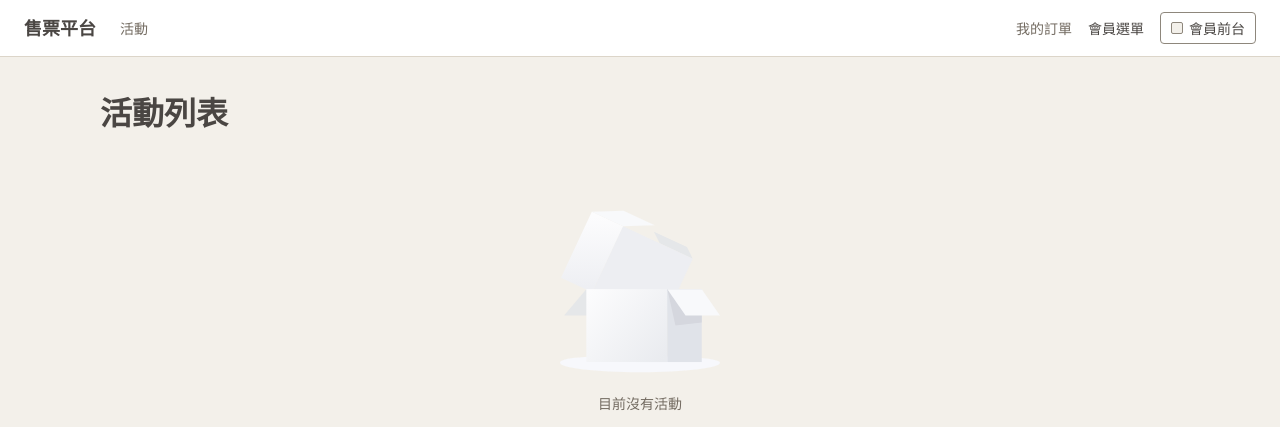
Scenario: BuyerLayout 會員下拉選單與區域切換選單 › [BW-ADMIN-ENTRY-003] Member 開啟會員下拉選單，有我的主辦方，沒有主辦方審核
The width and height of the screenshot is (1280, 427).
Hover over the button with class "member-trigger" at (1116, 28), box [1088, 18, 1144, 38]
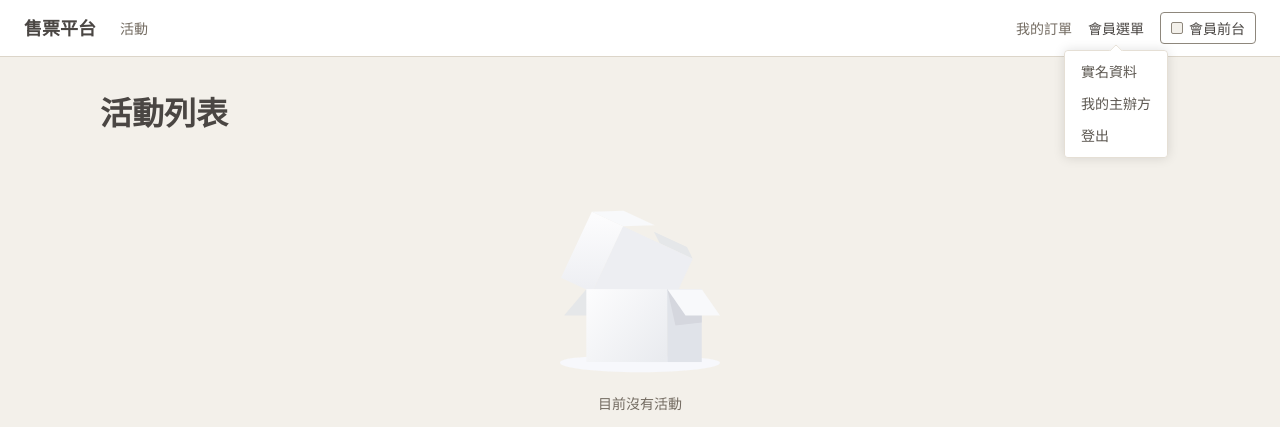
expect the menu item "登出" is shown: met, box [1081, 126, 1109, 145]
expect the menu item "我的主辦方" is shown: met, box [1081, 94, 1151, 113]
